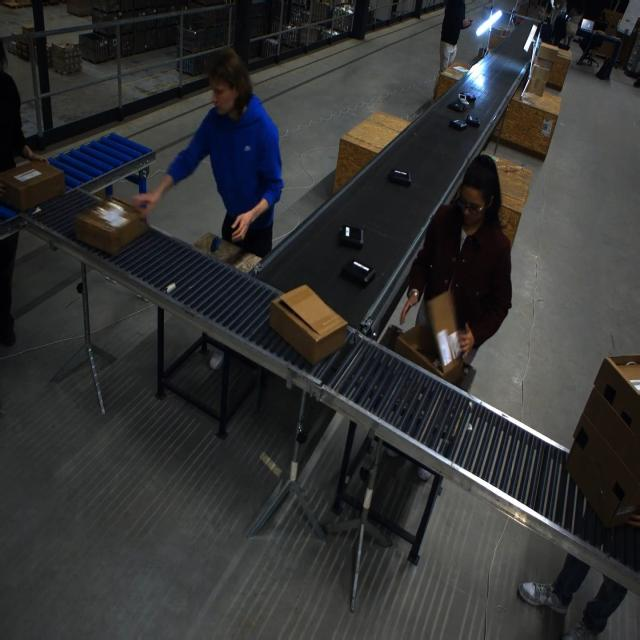box: (564, 404, 638, 529), (271, 284, 346, 364), (75, 195, 148, 255), (393, 322, 460, 385), (590, 356, 640, 440), (0, 160, 64, 212), (536, 40, 559, 62)
product: (340, 259, 376, 286), (339, 224, 365, 248), (387, 169, 411, 186), (446, 100, 468, 112), (449, 119, 468, 130), (458, 92, 476, 103), (465, 115, 480, 128)
